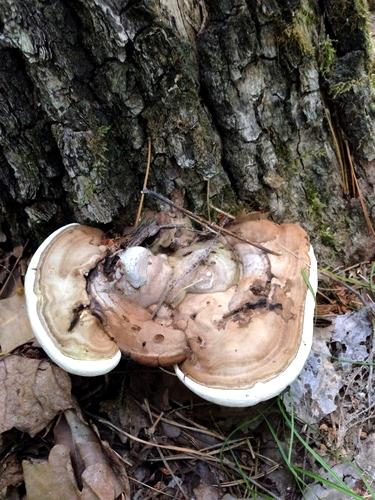Ganoderma - Fruit Body: (22, 210, 322, 408)
